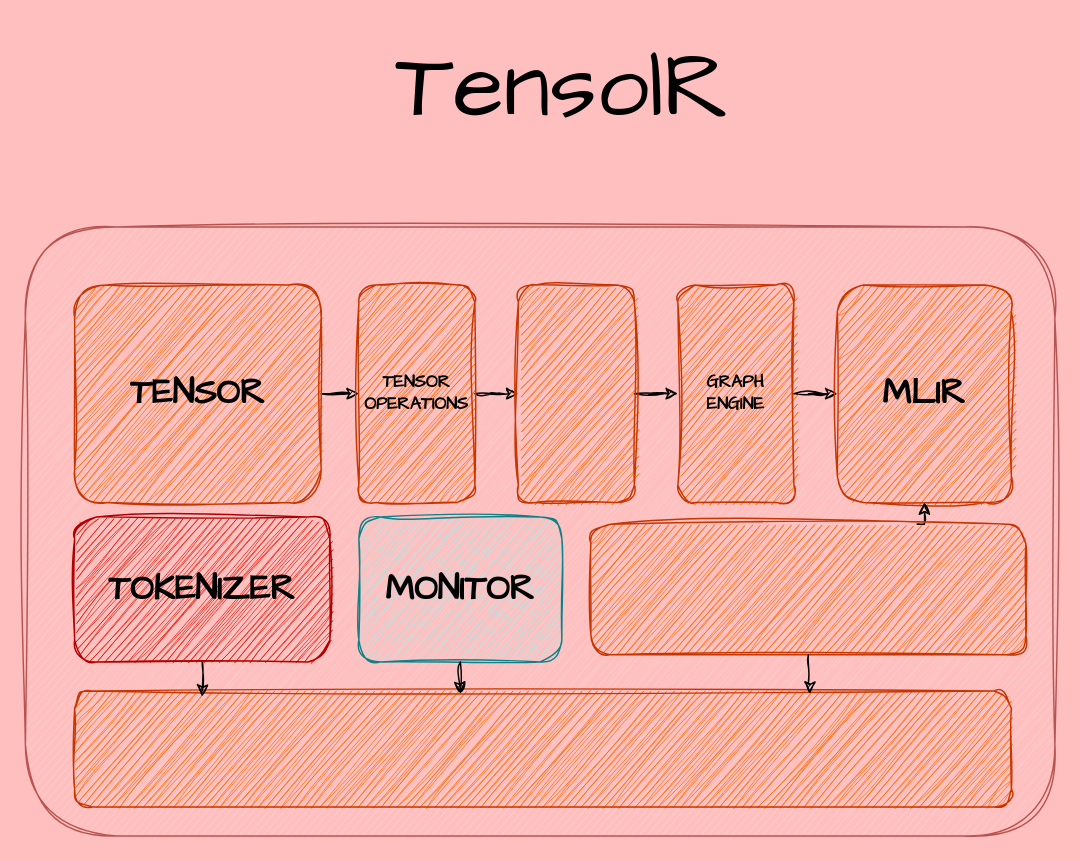
Some shapes in this 1080 by 861 pixel diagram are drawn without their labels. The box of each missing label's shape, as (x1, y1, x2, y2) in pixels:
API: (73, 689, 1011, 807)
NODE: (517, 283, 634, 502)
PASSES: (589, 523, 1026, 655)
